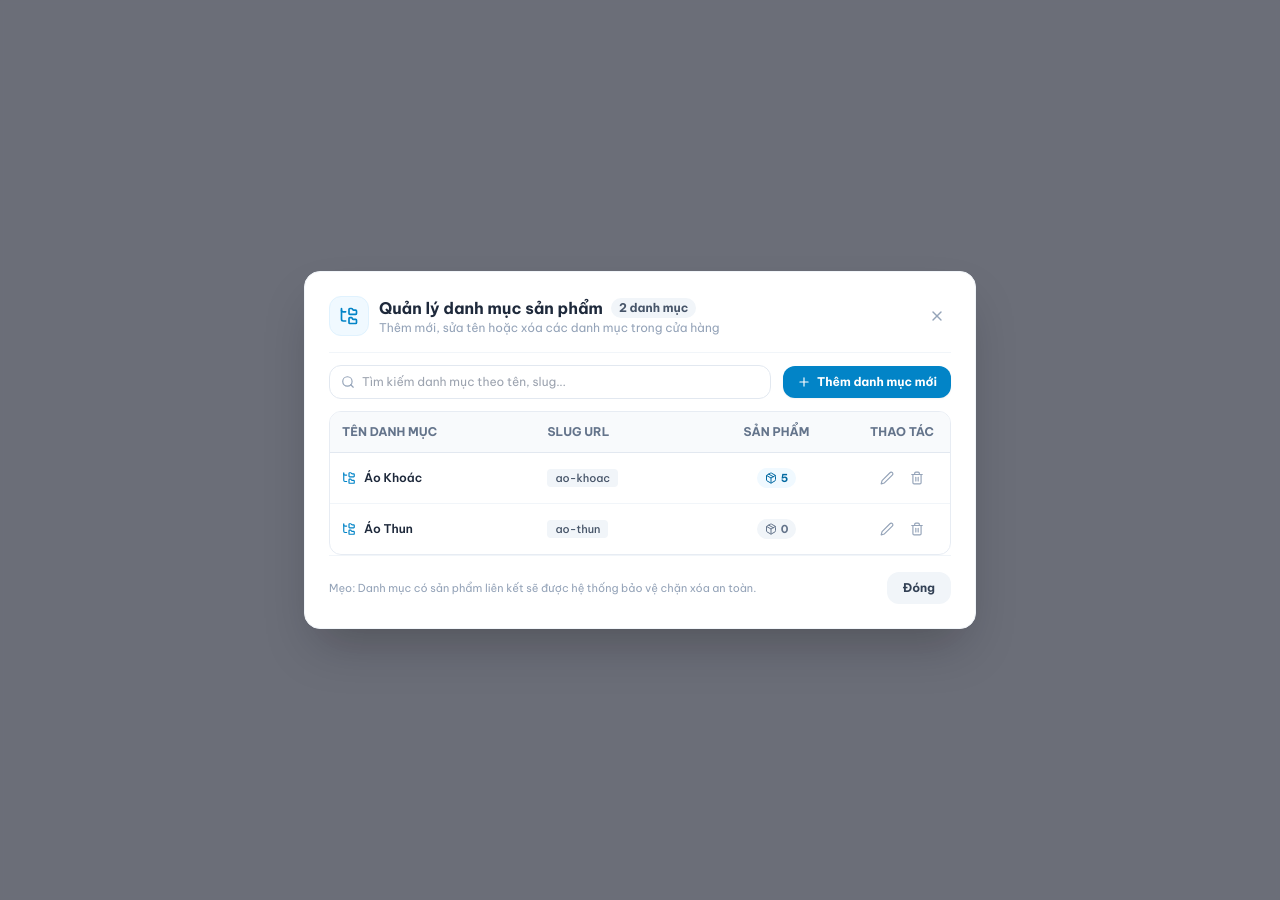
Test case: AdminCategoryManagerModal Component › Hiển thị danh sách danh mục, hỗ trợ tìm kiếm và hiển thị số lượng sản phẩm liên kết
Expected: the heading "Quản lý danh mục sản phẩm 2 danh mục" is shown, [379,296,720,320]
Expected: the text "Áo Khoác" is shown, [364,470,422,486]
Note: Test tìm kiếm
Type "Thun" into the field with placeholder "Tìm kiếm danh mục theo tên, slug...". click: (550,382)
box: [329,365,771,399]
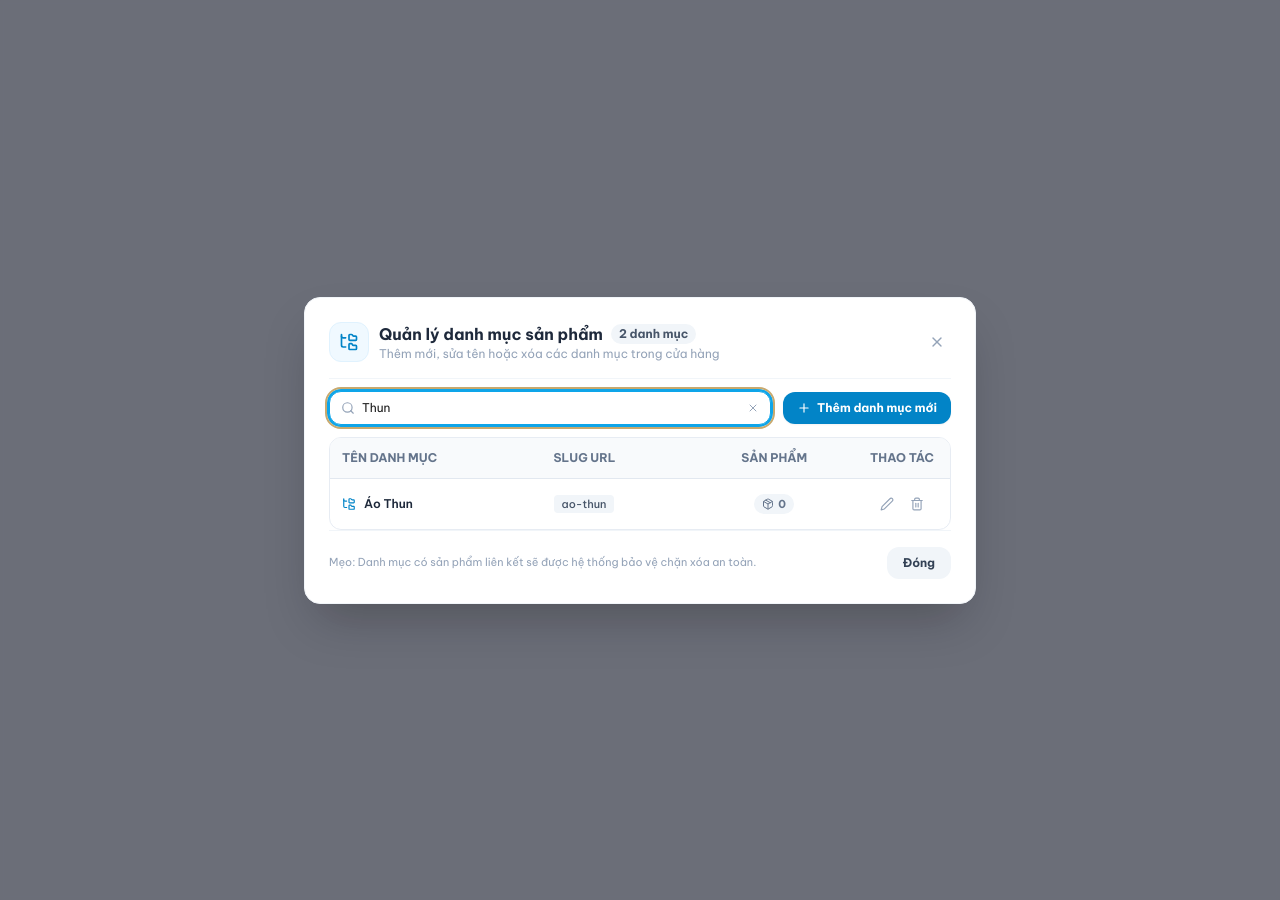
Expected: the text "Áo Thun" is shown, [364,496,413,512]
Now the text "Áo Khoác" is gone
